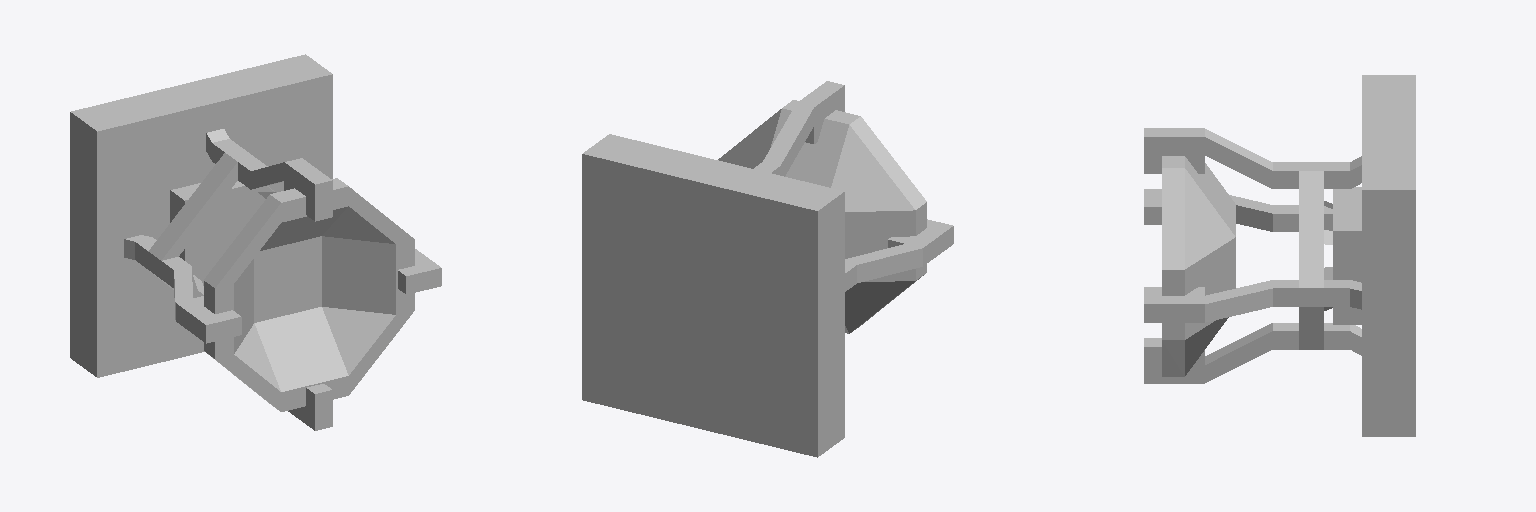
The model's file is smallcoil.obj.
3 views of the same model, side by side, from view 1: azimuth 30°, elevation 25°; view 2: azimuth 150°, elevation 25°; view 3: azimuth 270°, elevation 25° (orthographic).
Visible parts, largest first — view 1: calcinator, Cube; view 2: Cube, calcinator; view 3: calcinator, Cube.
Part boxes in pixels (left/top/right/bottom): calcinator: left=124, top=129, right=441, bottom=430; Cube: left=70, top=54, right=332, bottom=377; Cube: left=582, top=134, right=844, bottom=457; calcinator: left=582, top=81, right=953, bottom=430; calcinator: left=1144, top=128, right=1361, bottom=383; Cube: left=1362, top=75, right=1415, bottom=436.
Size of the model in its own units: 1 by 1 by 1.